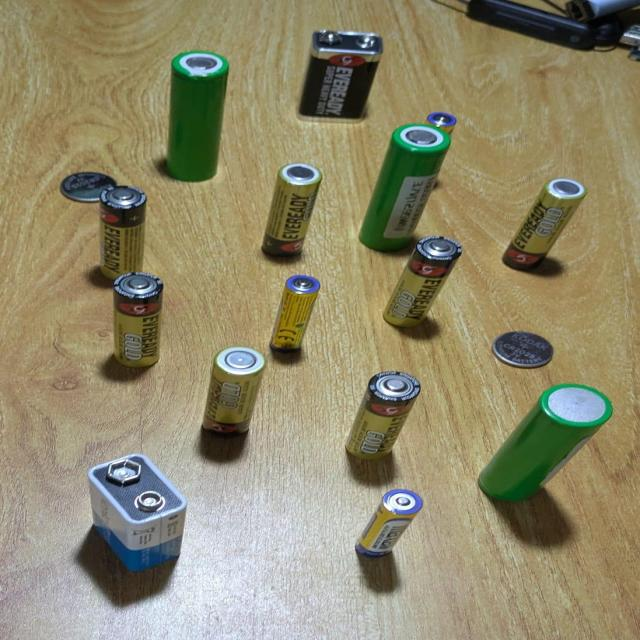9V: (74, 444, 204, 584), (294, 19, 393, 125)
AA: (341, 367, 429, 473), (502, 175, 591, 279), (387, 234, 469, 338), (198, 345, 272, 459), (103, 264, 173, 380), (260, 159, 332, 267), (100, 180, 154, 290)
AAA: (259, 268, 331, 364), (350, 486, 425, 563), (422, 109, 463, 132)
COIN: (54, 164, 126, 208), (494, 324, 558, 371)
